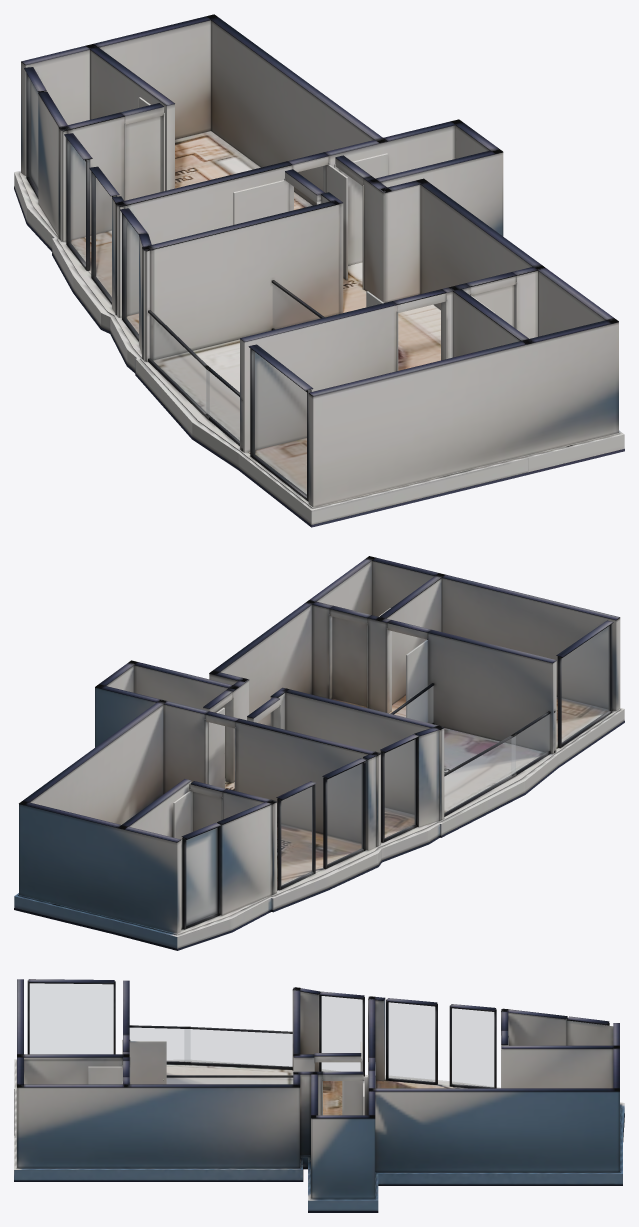
3 views of the same model, one above another, from view 1: azimuth 30°, elevation 25°; view 2: azimuth 150°, elevation 25°; view 3: azimuth 270°, elevation 25° (orthographic). The views are drawn at different scales.
Visible parts, largest first — view 1: plan, glass4_m, railg4_m, glass2_m, glass1_m, railg3_m, glass3_m, railg2_m, glass0_m; view 2: plan, glass4_m, glass2_m, glass0_m, glass1_m, railg4_m, glass3_m, railg3_m, railg2_m; view 3: plan, glass4_m, railg4_m, glass2_m, glass1_m, glass3_m, railg3_m, railg2_m.
Part boxes in pixels (bbox=[...]): plan: bbox=[14, 14, 624, 527]; glass4_m: bbox=[253, 351, 306, 495]; railg4_m: bbox=[149, 314, 209, 416]; glass2_m: bbox=[94, 176, 111, 299]; glass1_m: bbox=[69, 142, 85, 264]; railg3_m: bbox=[206, 369, 239, 441]; glass3_m: bbox=[125, 218, 138, 336]; railg2_m: bbox=[273, 284, 319, 329]; glass0_m: bbox=[29, 78, 37, 191]; plan: bbox=[14, 556, 624, 950]; glass4_m: bbox=[562, 626, 609, 743]; glass2_m: bbox=[327, 763, 362, 864]; glass0_m: bbox=[186, 828, 217, 925]; glass1_m: bbox=[281, 786, 312, 885]; railg4_m: bbox=[444, 736, 515, 812]; glass3_m: bbox=[385, 739, 415, 838]; railg3_m: bbox=[511, 714, 549, 774]; railg2_m: bbox=[394, 686, 433, 723]; plan: bbox=[14, 979, 624, 1212]; glass4_m: bbox=[30, 983, 113, 1053]; railg4_m: bbox=[184, 1029, 292, 1066]; glass2_m: bbox=[388, 1002, 434, 1082]; glass1_m: bbox=[452, 1008, 493, 1087]; glass3_m: bbox=[321, 996, 362, 1071]; railg3_m: bbox=[130, 1028, 190, 1061]; railg2_m: bbox=[167, 1078, 292, 1083].
Size of the model in its own units: 8.52 by 2.62 by 15.53.
2 materials, 1 textured.
